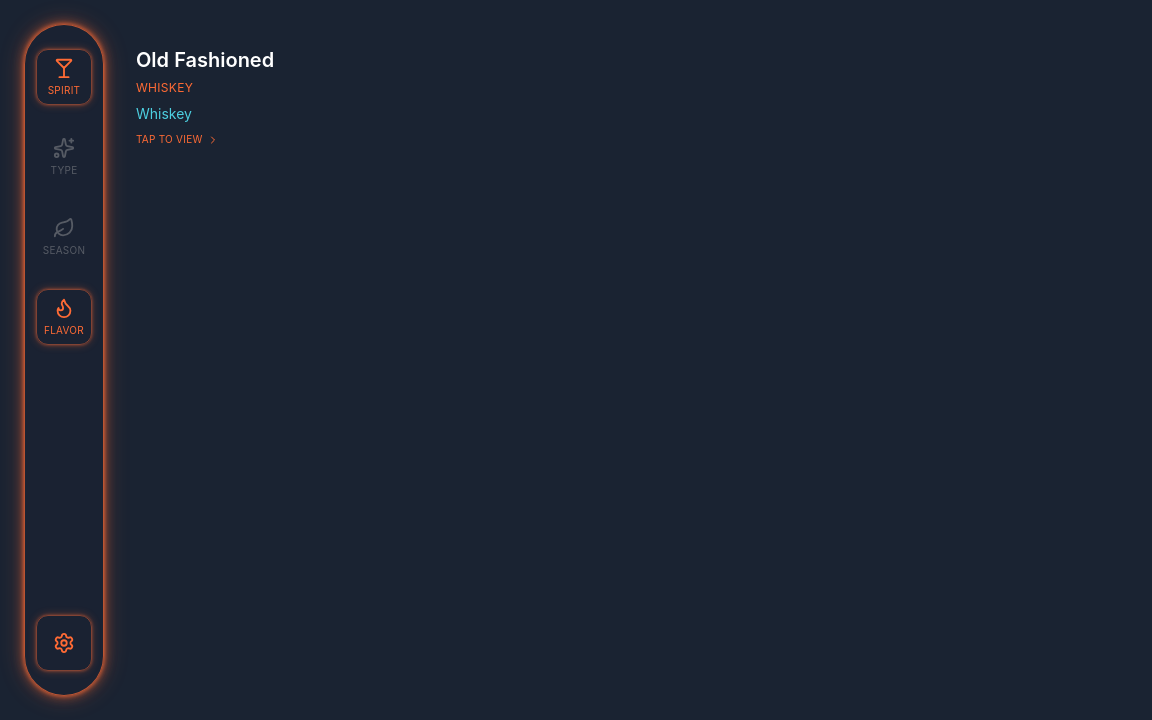
Scenario: RecipeBrowse › combines the availability toggle and the tag filter with AND, not OR
The image size is (1152, 720).
Expected: the heading "Old Fashioned" is shown, [136,48,274,72]
Click the button named "Settings": (64, 643) [36,615,92,671]
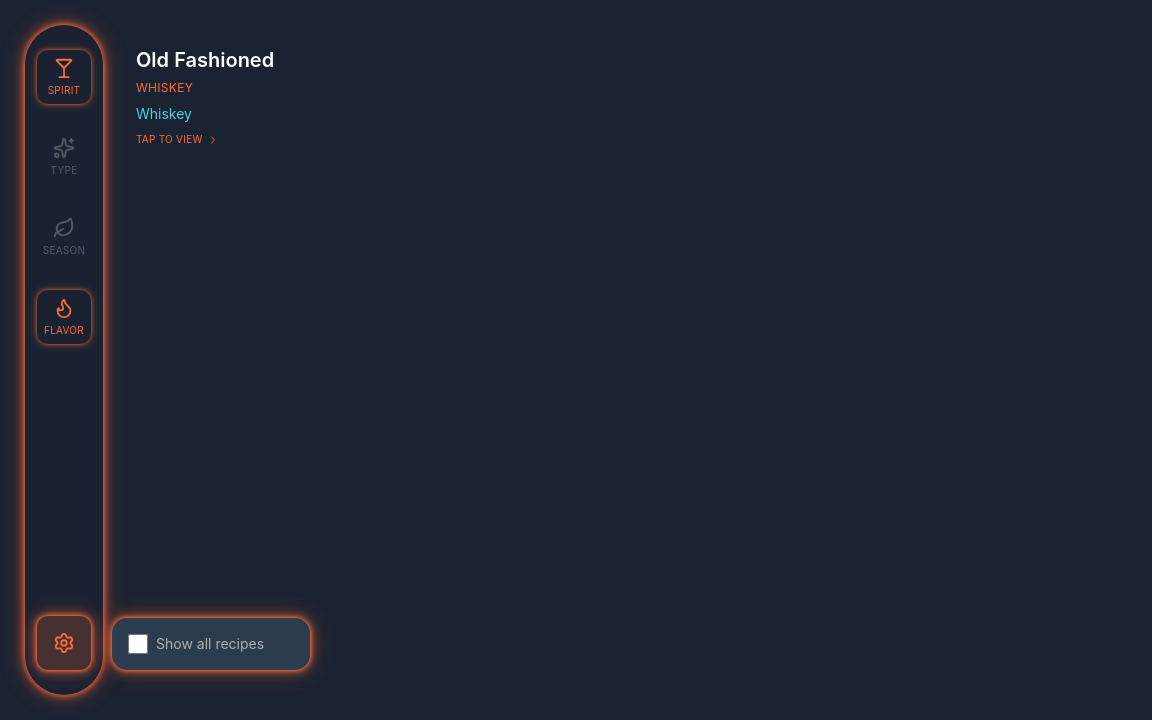
Click the checkbox labelled "Show all recipes": (138, 644) [128,634,148,654]
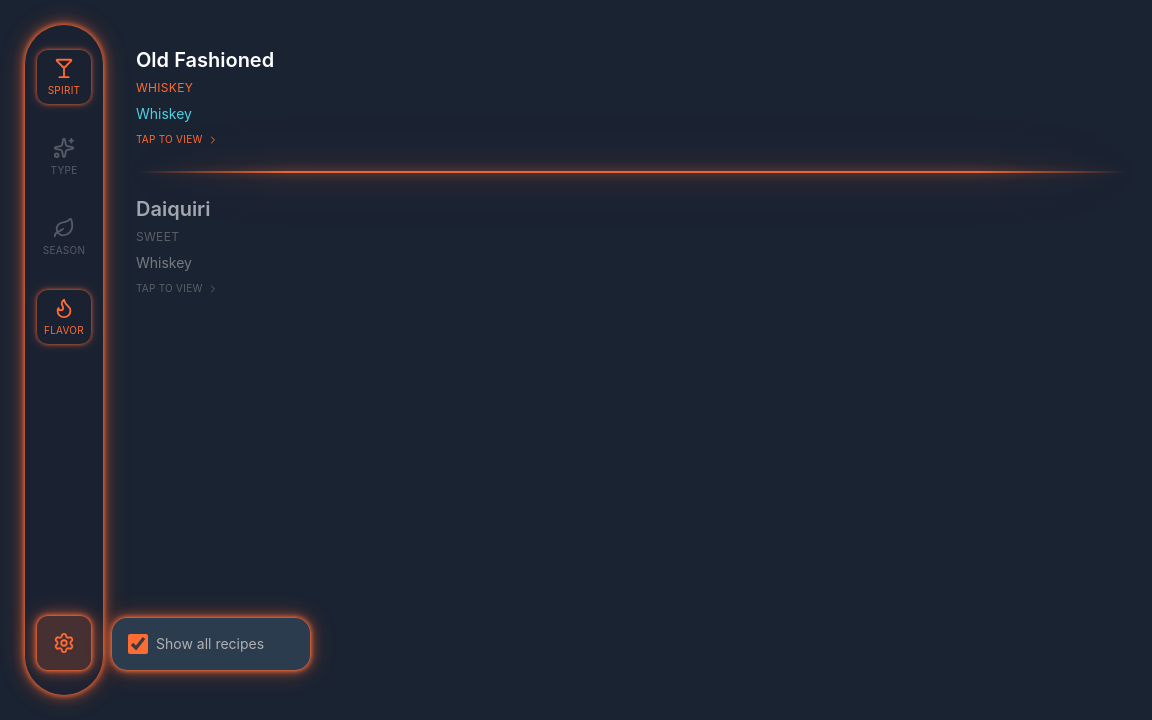
Result: the heading "Daiquiri" is shown at [136,197,210,221]
Click the button "Spirit": (64, 77) [36,49,92,105]
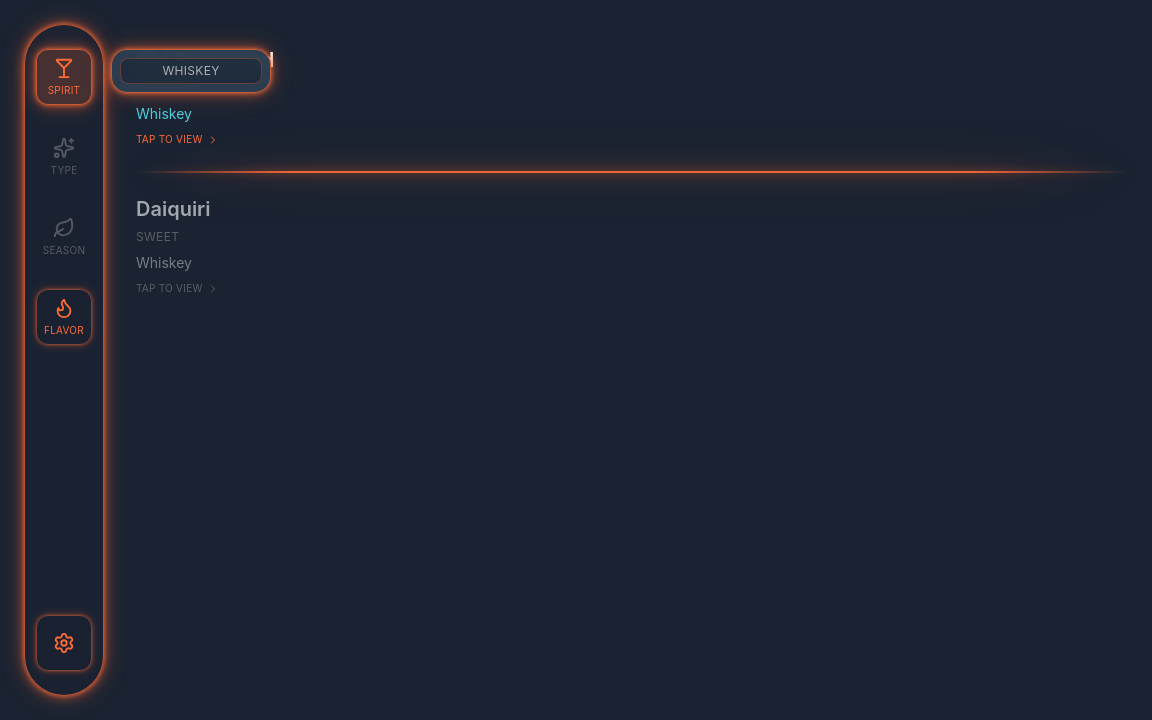
Click the button "Whiskey": (191, 71) [120,58,262,84]
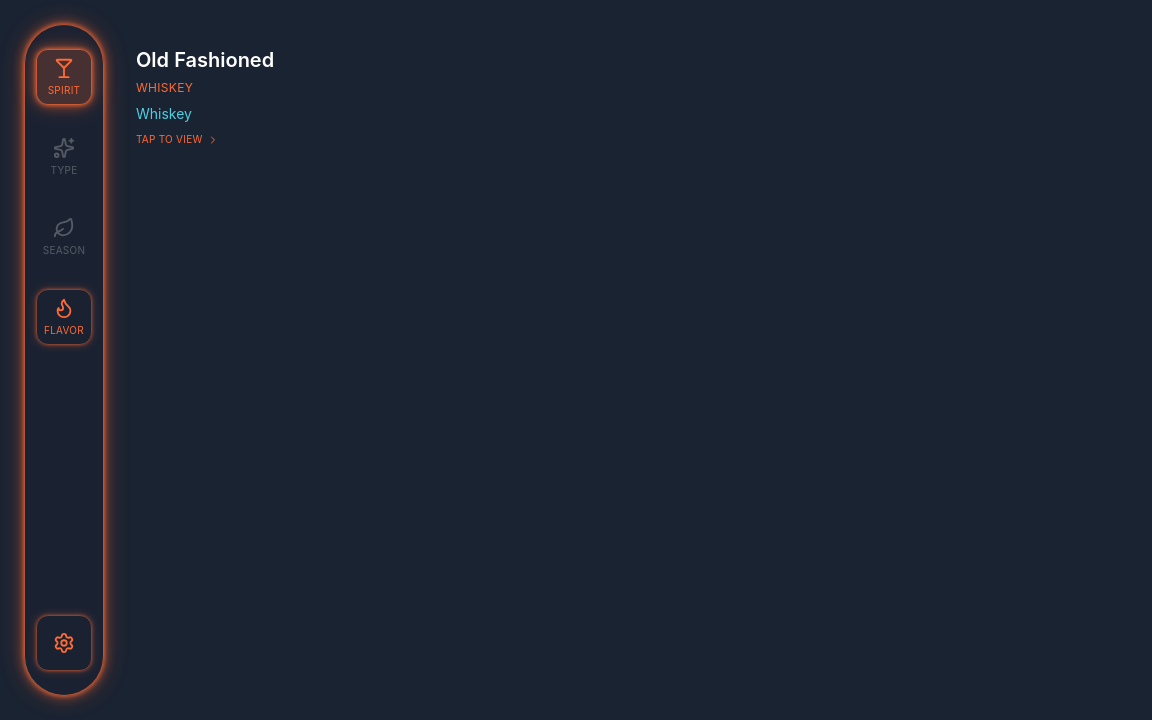
Expected: the heading "Old Fashioned" is shown, [136,48,274,72]
Result: the heading "Daiquiri" is gone
